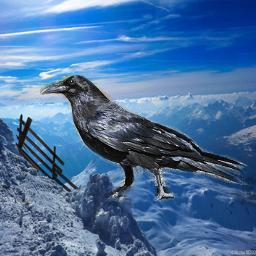Crow: (40, 74, 254, 205)
